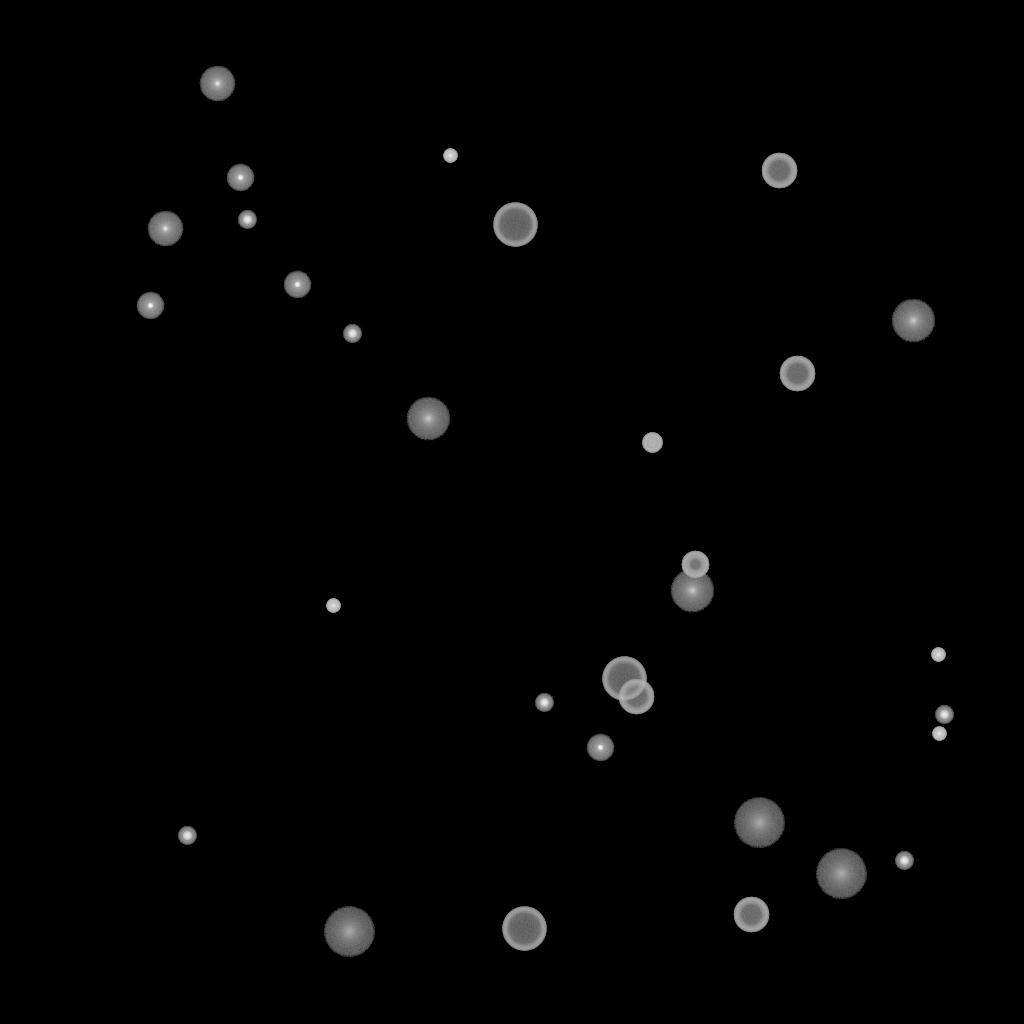depth:-10: (226, 164, 254, 192), (283, 271, 311, 299), (136, 292, 164, 320), (586, 734, 614, 762)
depth:-20: (895, 852, 913, 870), (343, 325, 361, 343), (178, 827, 196, 845), (935, 706, 953, 724), (238, 211, 256, 229), (535, 694, 553, 712)
depth:-30: (326, 599, 340, 613), (932, 727, 946, 741), (931, 648, 945, 662), (443, 149, 457, 163)
depth:-40: (642, 433, 662, 453)
depth:-50: (681, 551, 709, 579)
depth:-60: (618, 679, 654, 715), (761, 153, 797, 189), (779, 356, 815, 392), (733, 897, 769, 933)
depth:-70: (602, 657, 646, 701), (502, 907, 546, 951), (493, 203, 537, 247)
depth:0: (199, 66, 235, 102), (147, 211, 183, 247)
depth:10: (891, 299, 935, 343), (406, 397, 450, 441), (670, 569, 714, 613)
depth:20: (733, 798, 785, 848), (323, 907, 375, 957), (815, 849, 867, 899)
